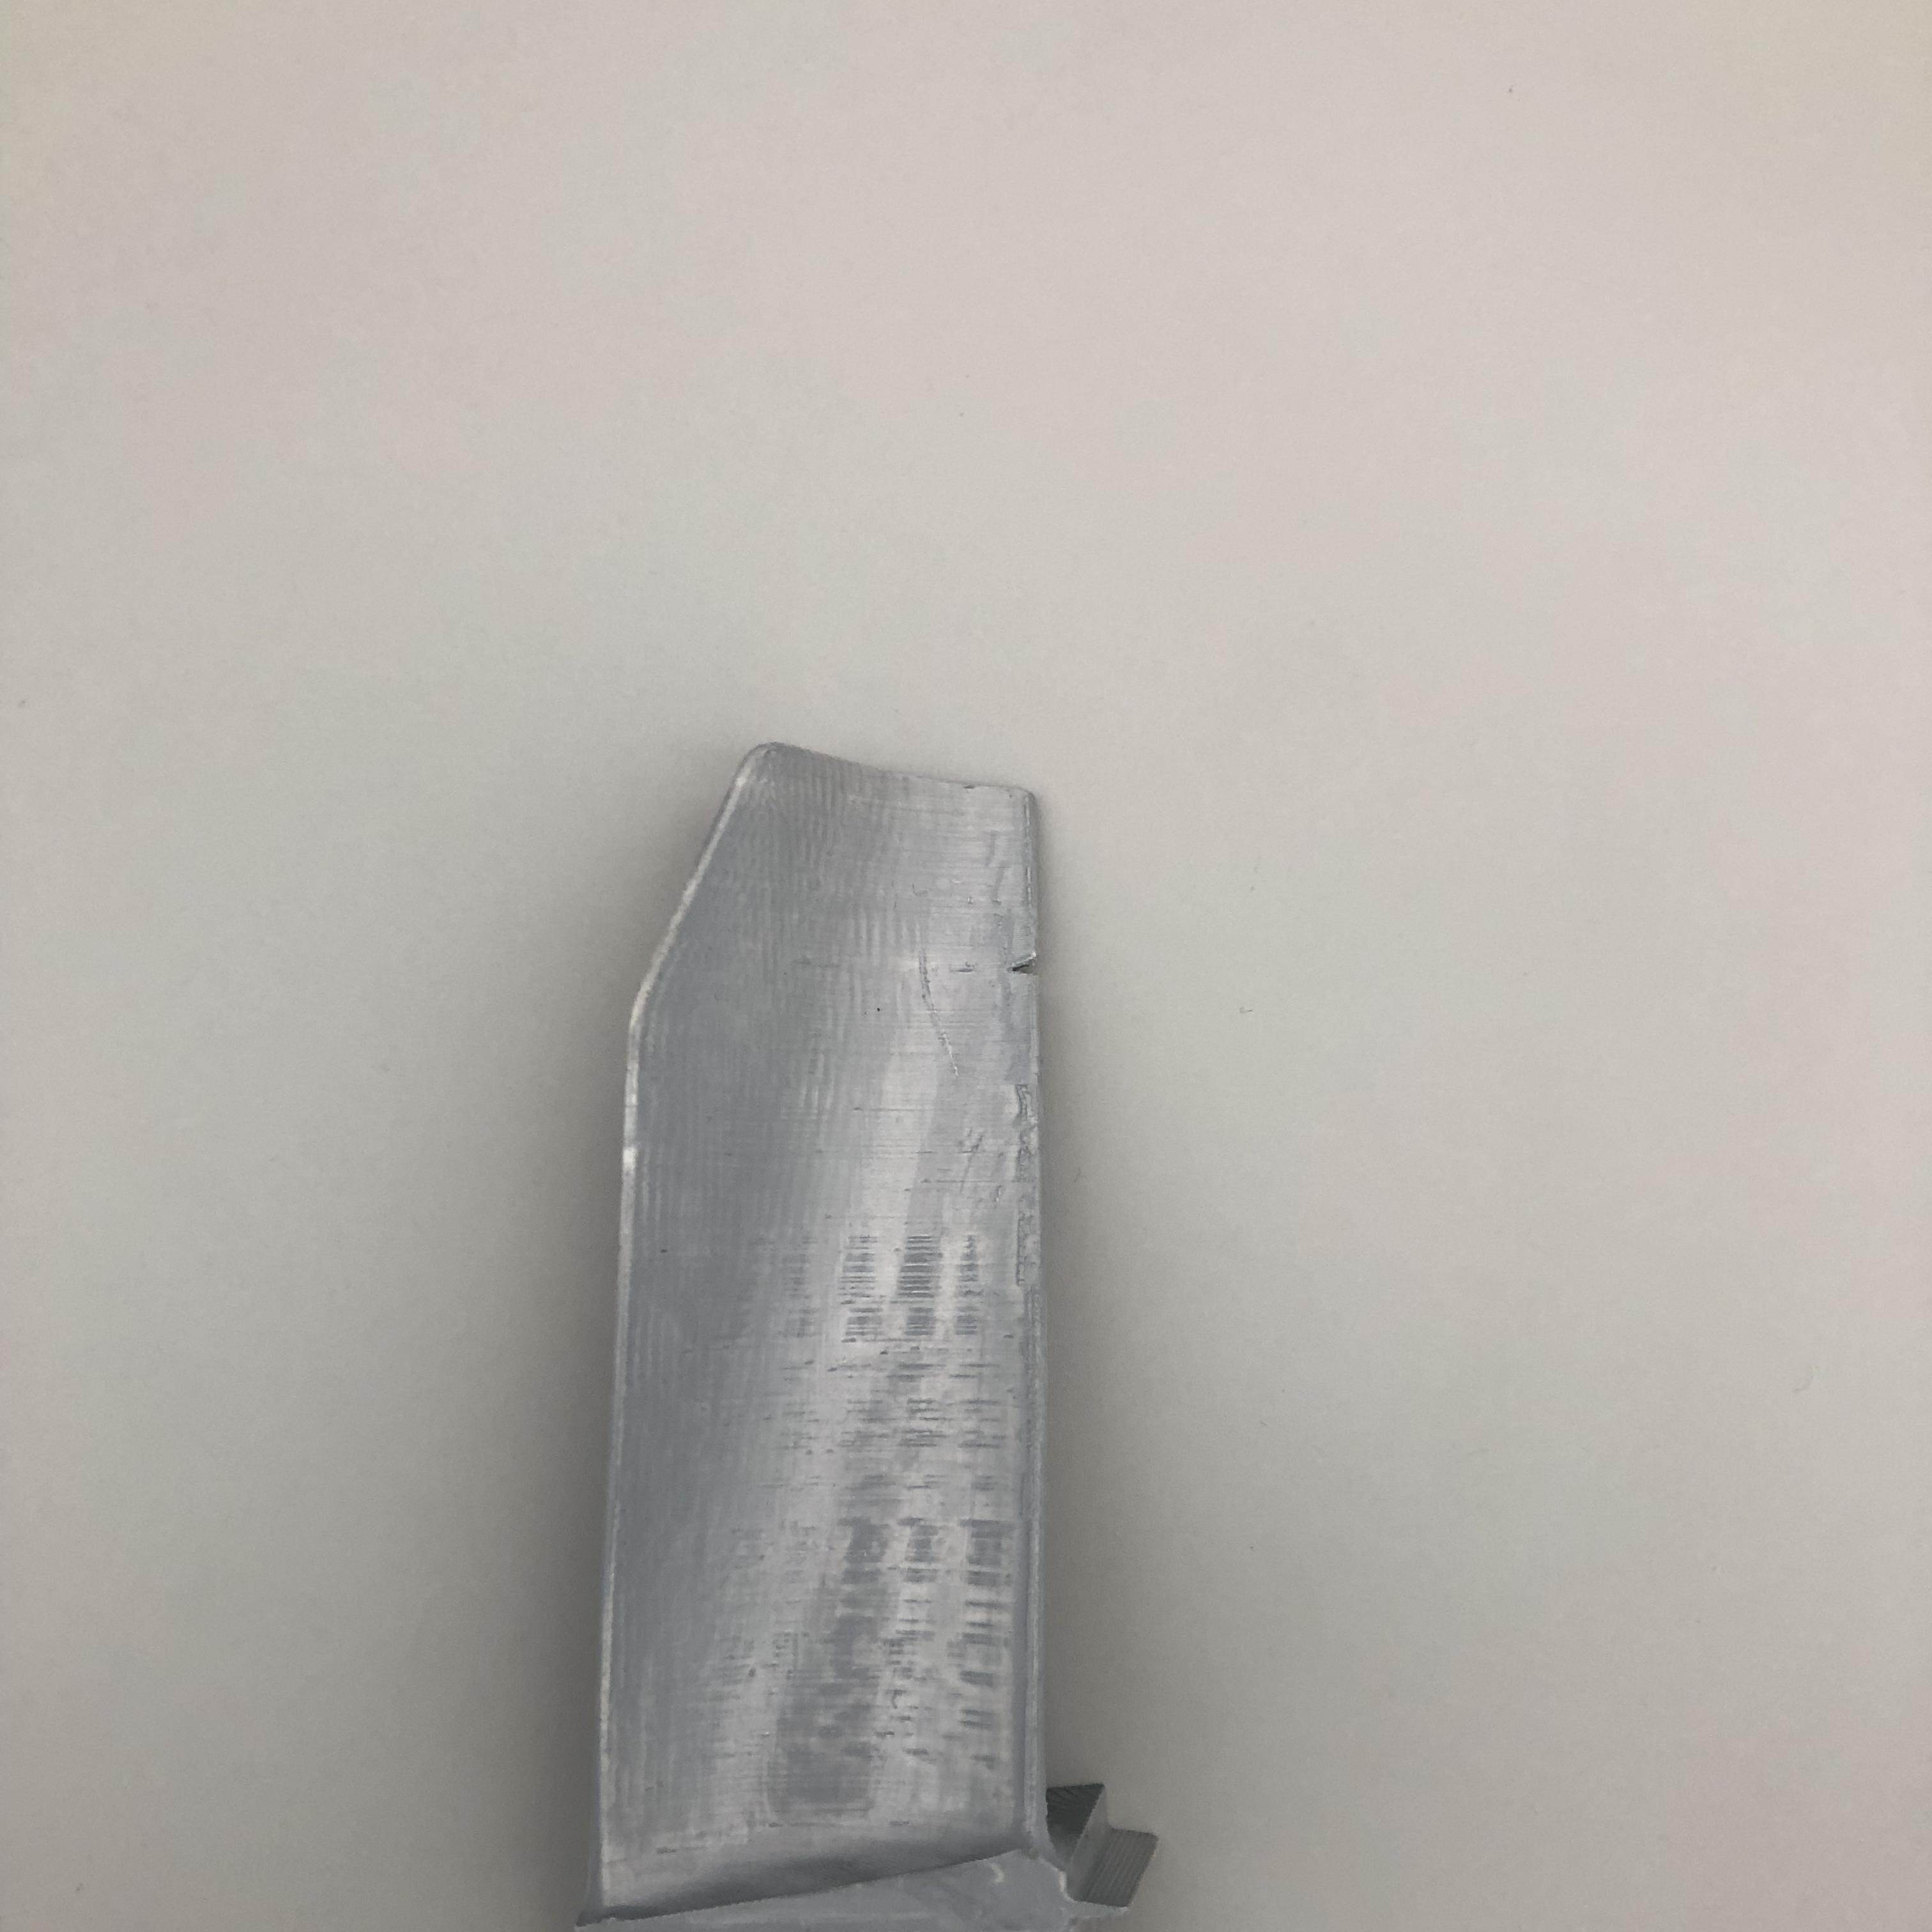groove: (1008, 939, 1040, 998)
